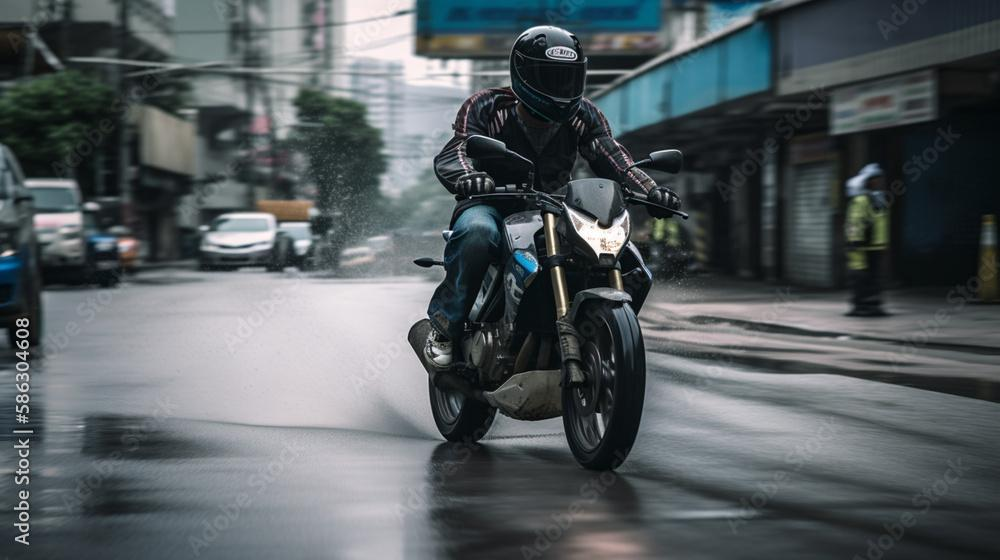helmet: (508, 24, 589, 126)
